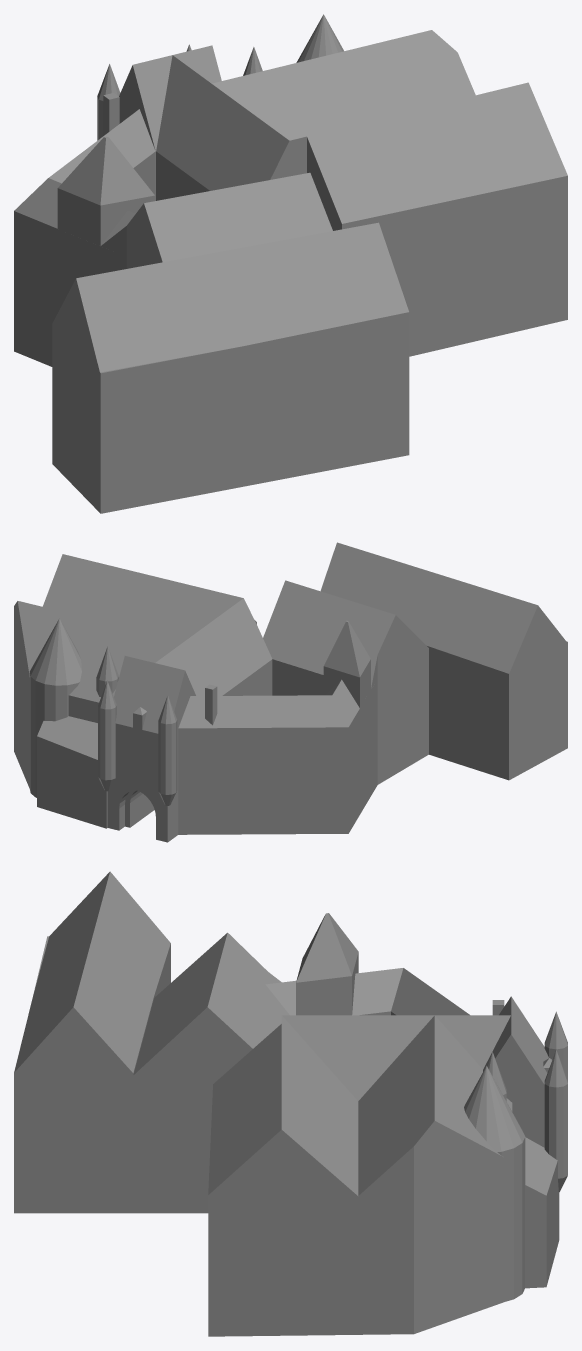
Rendered from grand-chatelet-massa.glb.
The picture shows the model from 3 angles, top to bottom: view 1: azimuth 30°, elevation 25°; view 2: azimuth 150°, elevation 25°; view 3: azimuth 270°, elevation 25°; orthographic projection. The views are drawn at different scales.
Parts seen in each view (by area): view 1: grand-chatelet-massa; view 2: grand-chatelet-massa; view 3: grand-chatelet-massa.
Part boxes in pixels (box(x1,y1,x2,y2)): grand-chatelet-massa: box(14, 14, 567, 513); grand-chatelet-massa: box(14, 542, 567, 842); grand-chatelet-massa: box(14, 871, 567, 1336).
Bounding box in the file's own units: 63.4 × 26 × 56.49.
Materials: 1 (1 with a texture image).
